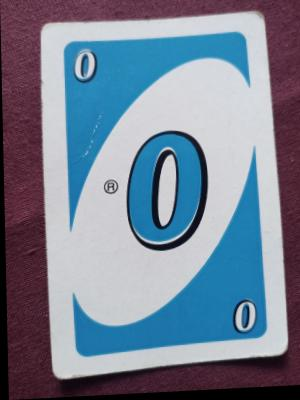blue: (41, 12, 287, 374)
num_0: (123, 128, 211, 257), (227, 293, 263, 345), (69, 40, 100, 91)
